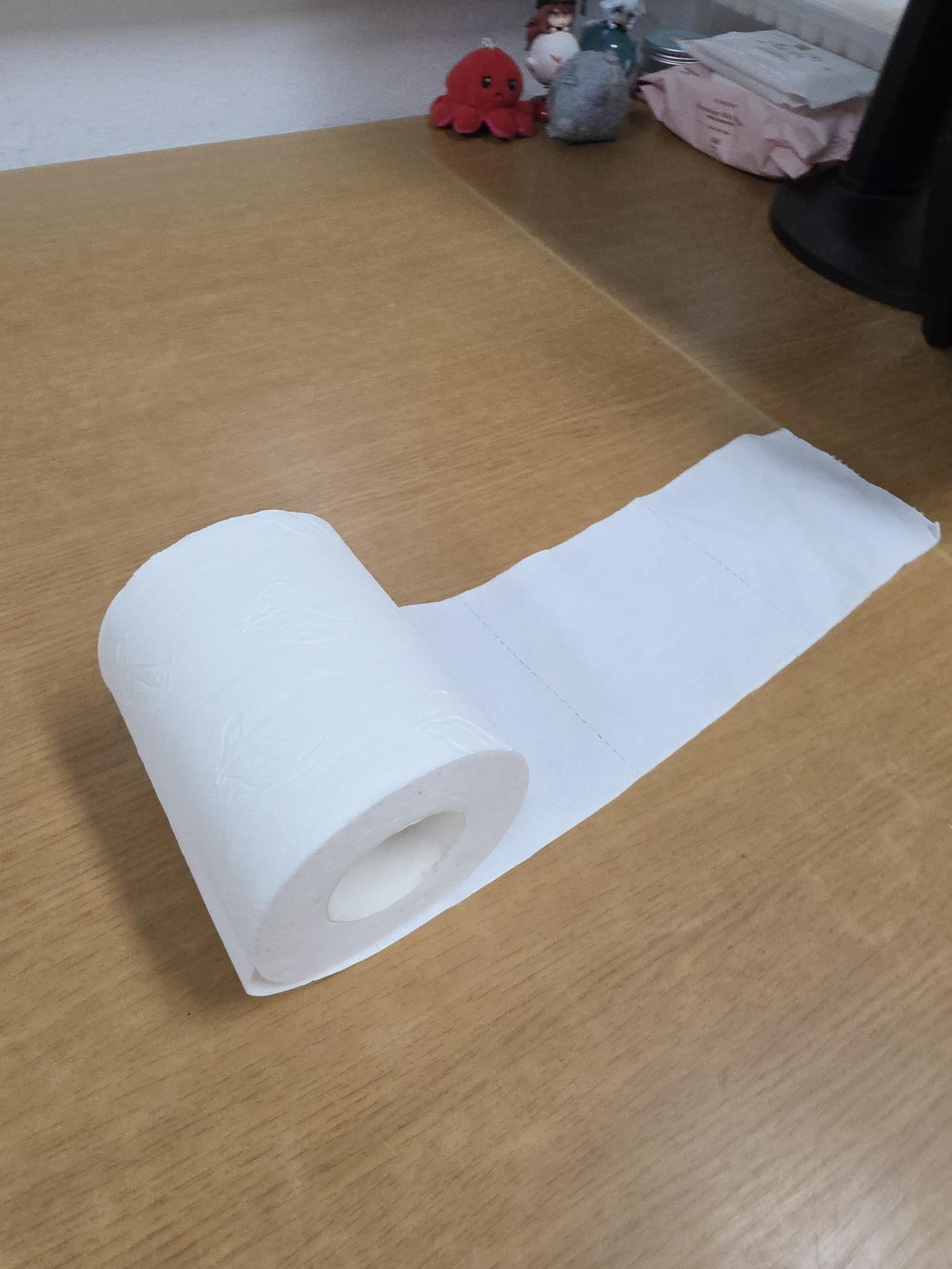tissue: (98, 428, 942, 997)
